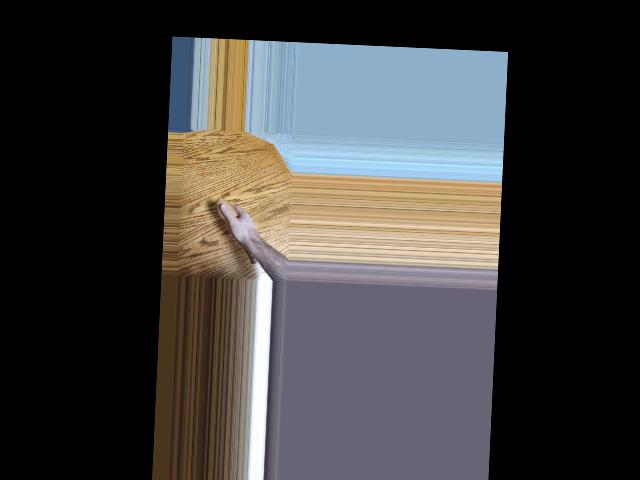sweet_potato: (213, 196, 262, 266)
